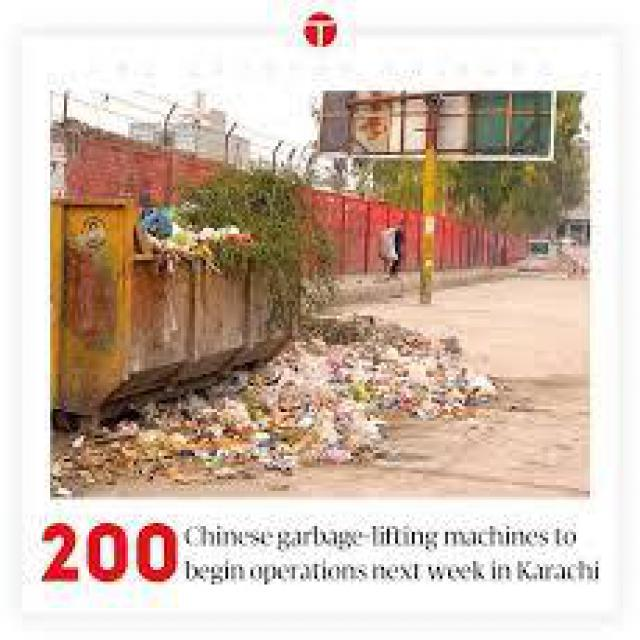garbage: (117, 394, 359, 470), (264, 339, 487, 403), (134, 199, 250, 254)
